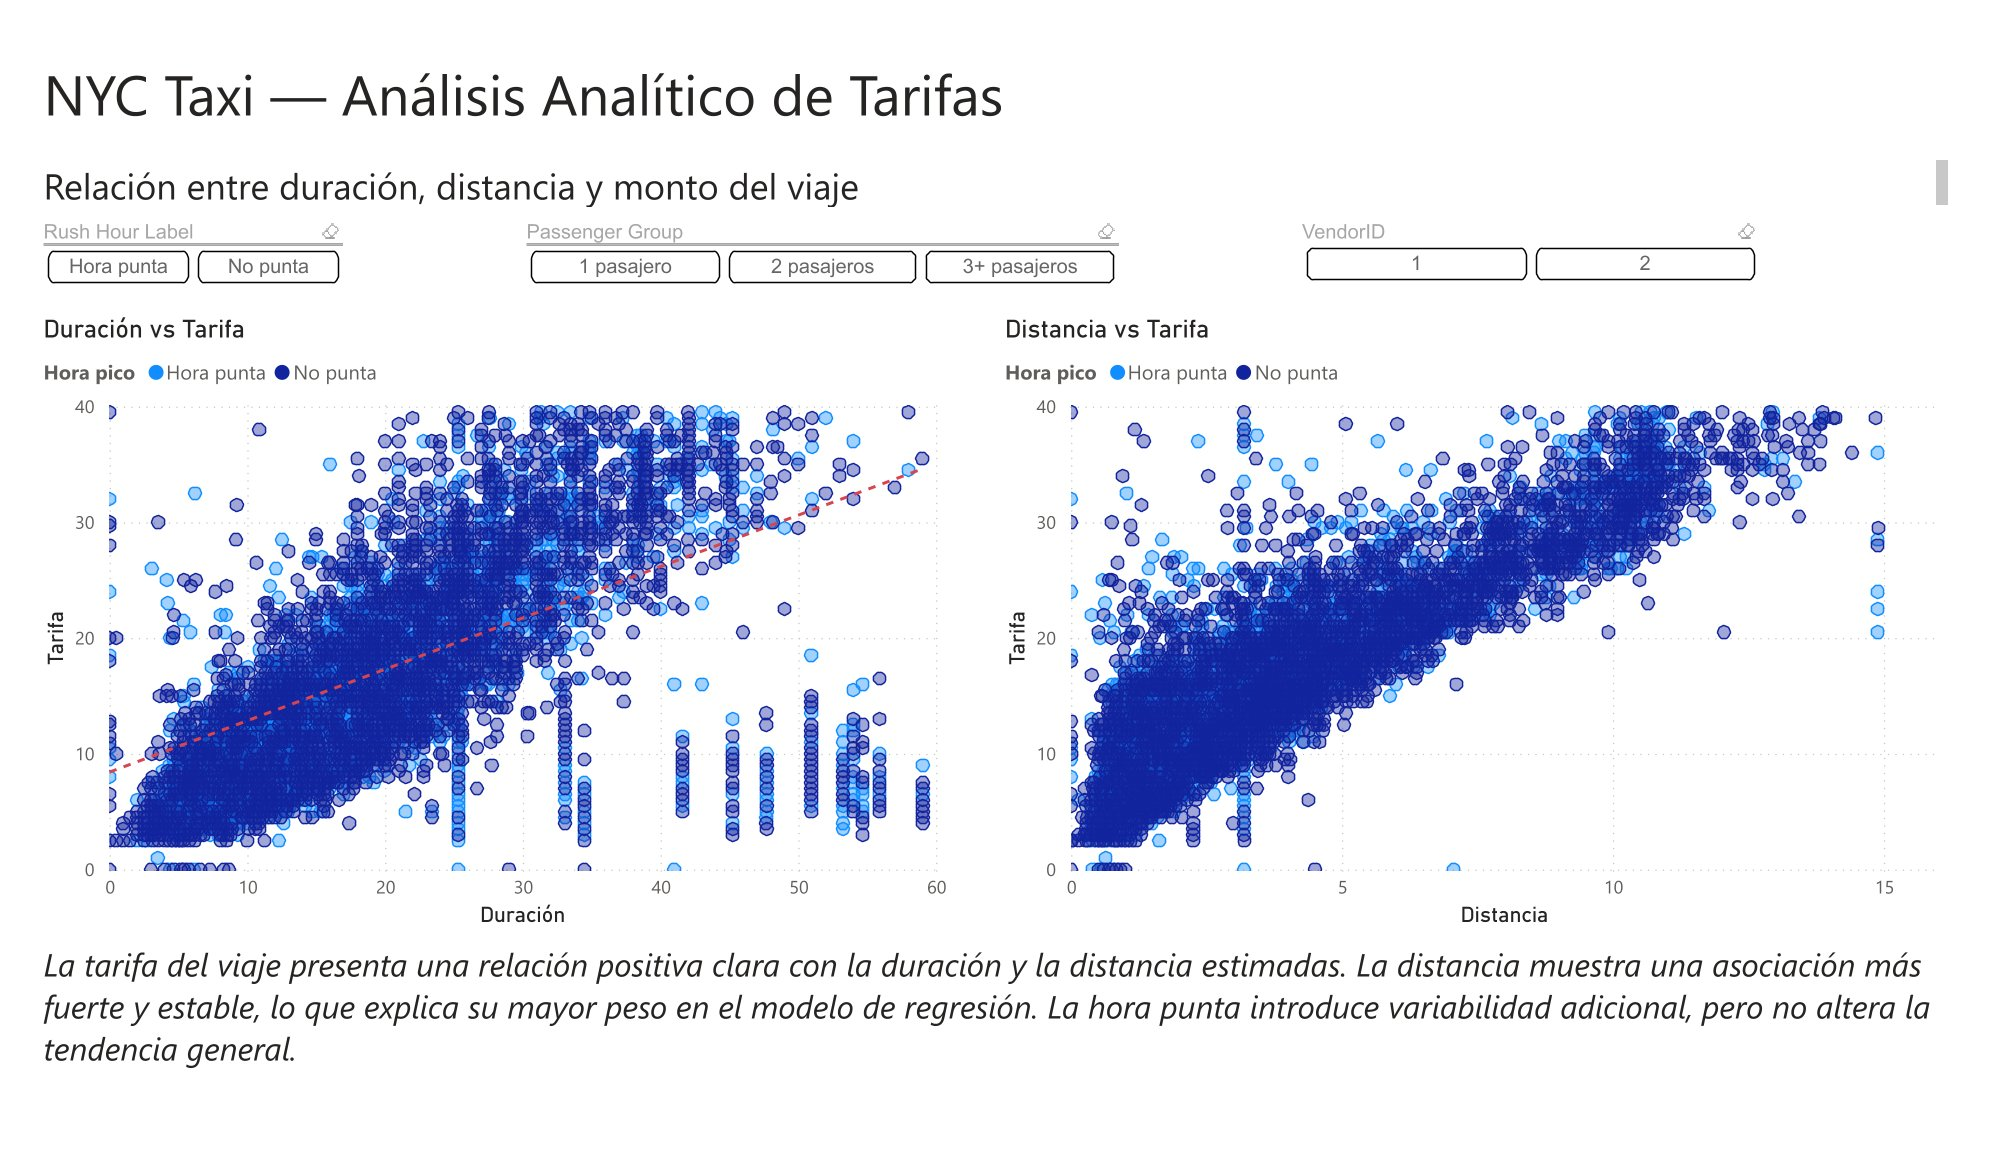

What the dashboard file says about the page in this screenshot:
{"tool":"powerbi","page":{"name":"Análisis Analítico de Tarifas","canvas":[1280,720],"ordinal":1},"visuals":[{"type":"textbox","box":[0,7.8,1280,69.9],"z":0},{"type":"textbox","box":[0,77.7,1280,41.1],"z":1000},{"type":"scatterChart","title":"Duración vs Tarifa","fields":{"X":["Trips_Analytic.Mean Duration"],"Y":["Trips_Analytic.Fare Amount Capped"],"Series":["Trips_Analytic.Rush Hour Label"]},"box":[0,184.6,612.2,414],"z":2000},{"type":"scatterChart","title":"Distancia vs Tarifa","fields":{"X":["Trips_Analytic.Mean Distance"],"Y":["Trips_Analytic.Fare Amount Capped"],"Series":["Trips_Analytic.Rush Hour Label"]},"box":[640.7,184.6,639.3,414],"z":3000},{"type":"textbox","box":[0,598.6,1280,120.8],"z":4000},{"type":"ChicletSlicer1448559807354","fields":{"Category":["Trips_Analytic.Rush Hour Label"]},"box":[0,118.1,210.4,66.5],"z":5000},{"type":"ChicletSlicer1448559807354","fields":{"Category":["Trips_Analytic.Passenger Group"]},"box":[322.4,118.1,404.4,66.8],"z":6000},{"type":"ChicletSlicer1448559807354","fields":{"Category":["Trips_Analytic.VendorID"]},"box":[839.1,118.1,314.5,66.8],"z":7000}]}

Visuals, with their boxes in screenshot pixels (x1, y1, x2, y2), scaled from the page's 1280x720 canvas onto the 1992x1152 screenshot:
textbox: box=[0, 12, 1991, 124]
textbox: box=[0, 124, 1991, 190]
"Duración vs Tarifa" scatterChart: box=[0, 295, 953, 958]
"Distancia vs Tarifa" scatterChart: box=[997, 295, 1991, 958]
textbox: box=[0, 958, 1991, 1151]
ChicletSlicer1448559807354 - Trips_Analytic.Rush Hour Label: box=[0, 189, 327, 295]
ChicletSlicer1448559807354 - Trips_Analytic.Passenger Group: box=[502, 189, 1131, 296]
ChicletSlicer1448559807354 - Trips_Analytic.VendorID: box=[1306, 189, 1795, 296]
